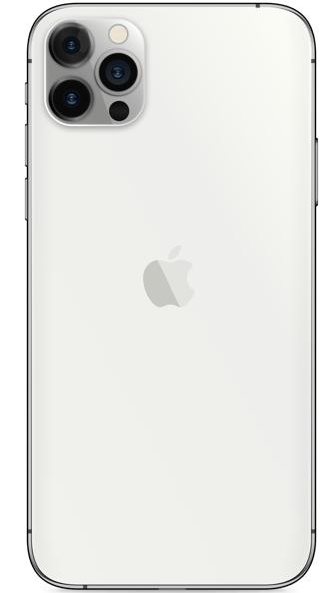iphone_12pro_silver: (11, 0, 319, 586), (43, 14, 151, 133)
